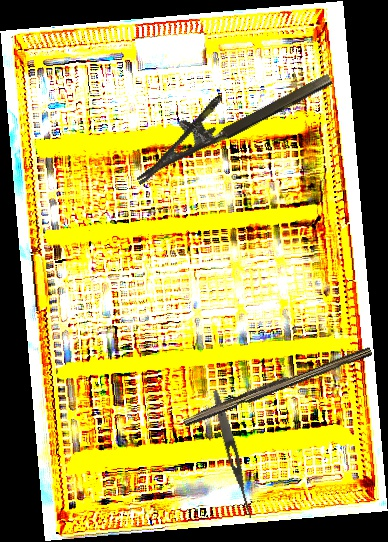Dressing Forceps: (209, 388, 257, 520)
Needle Holder: (119, 46, 335, 186)
Scalpel Handle: (181, 341, 373, 430)
